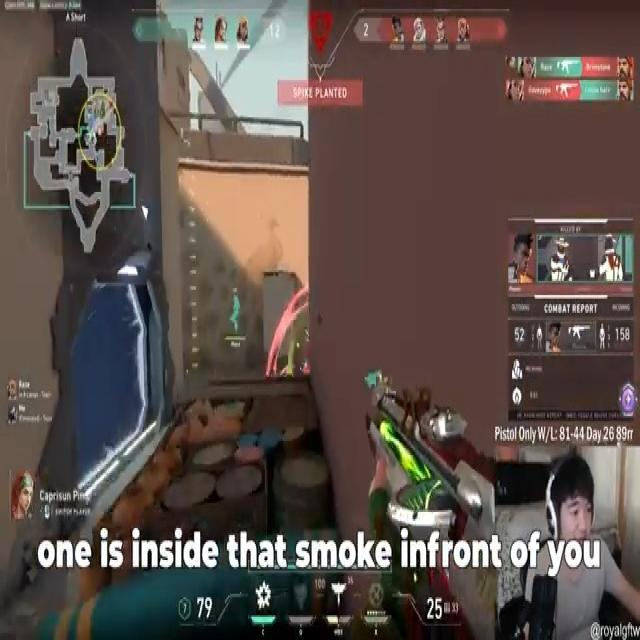ally behind wall: (228, 291, 244, 350)
